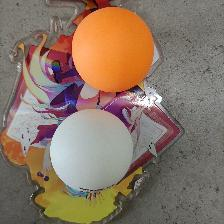WhiteBall: (49, 108, 133, 193)
YellowBall: (70, 6, 154, 92)
